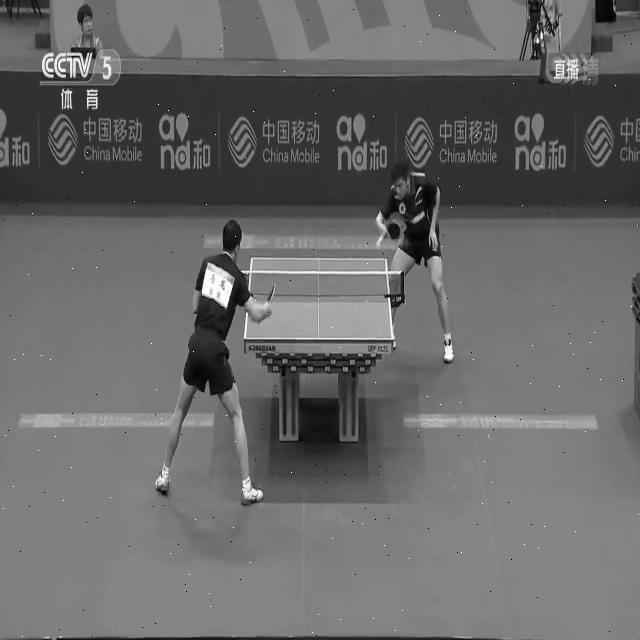ping-pong-ball: (373, 236, 383, 246)
